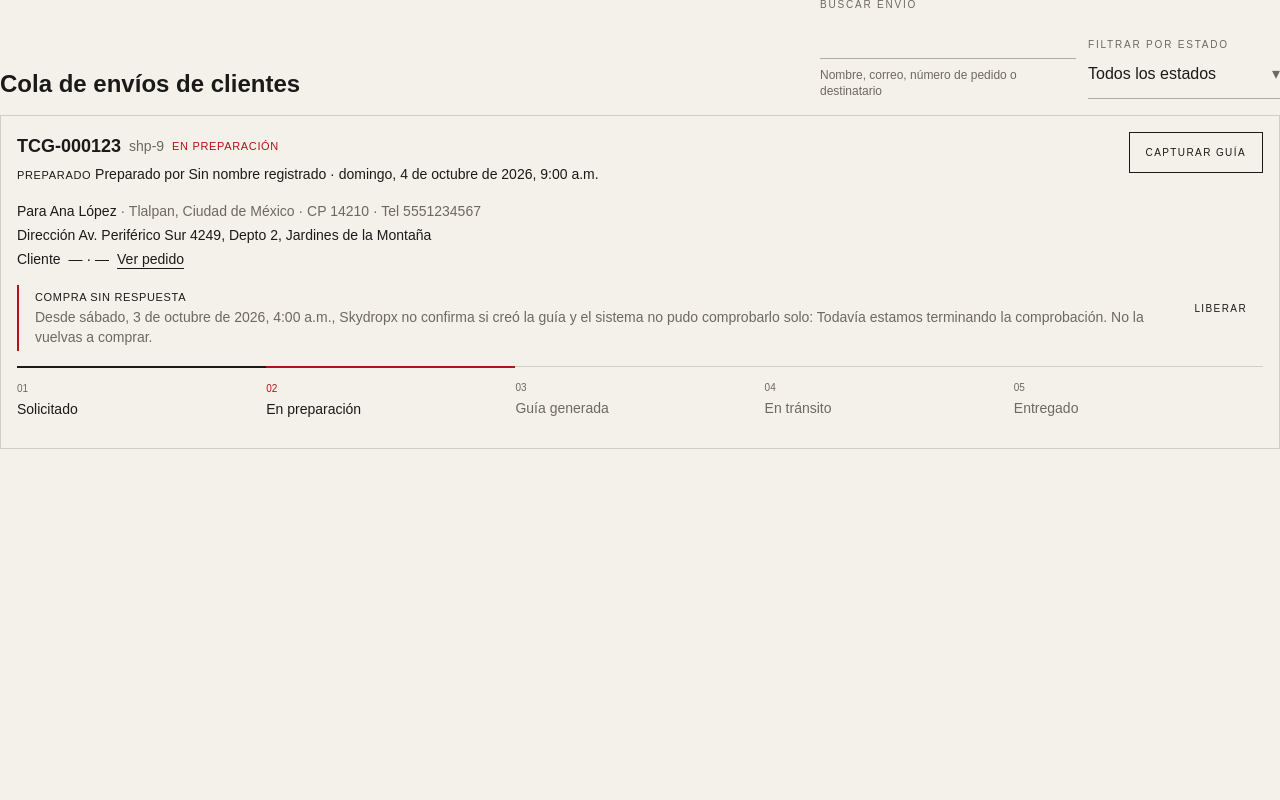
Test case: UX-SDX-16 · «Liberar» ⇔ canRelease (⛔ nunca por el rol) › operador con canRelease:true ⇒ «Liberar» presente; el diálogo manda la nota y pinta el resultado
Click the button "Liberar" at (1221, 309), box [1178,289,1263,329]
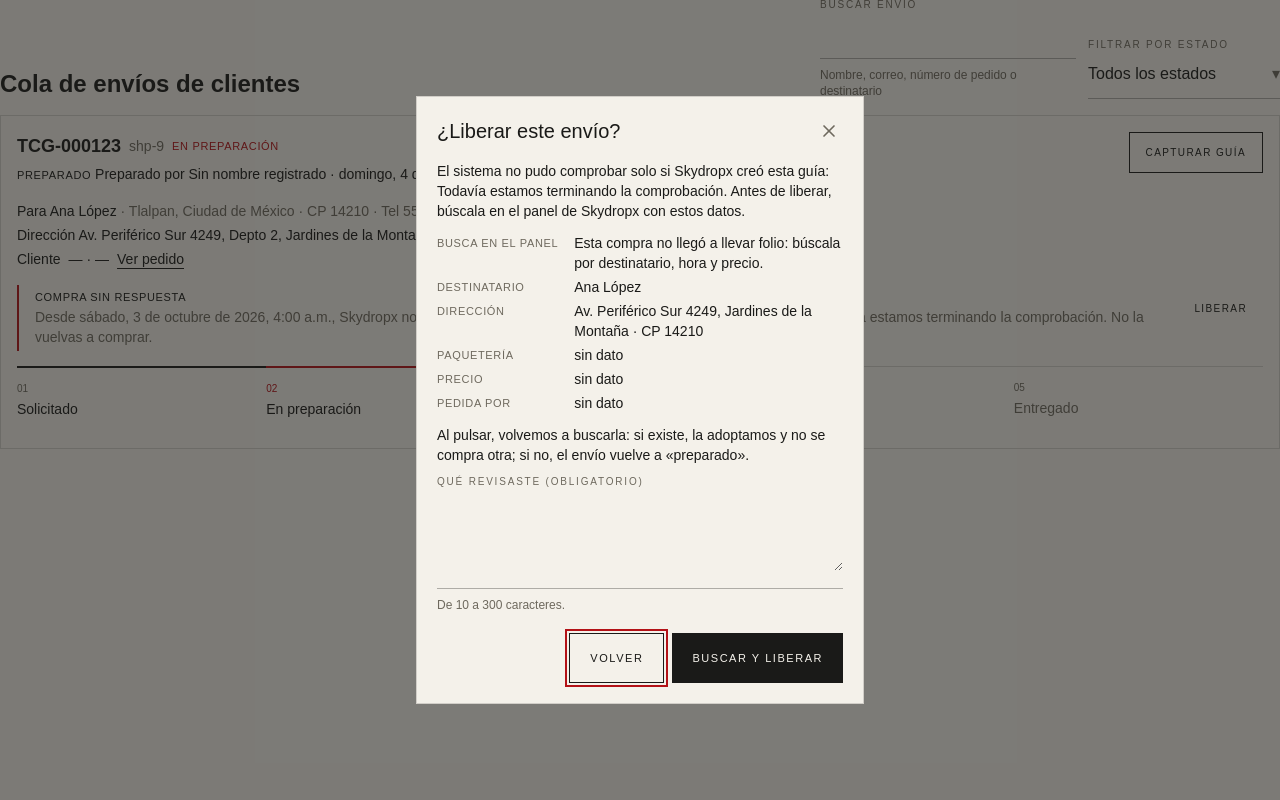
Type "Revisé el panel: no hay envío TCG-000123" into the text box labelled "Qué revisaste (obligatorio)" at (640, 535), box [437,499,843,571]
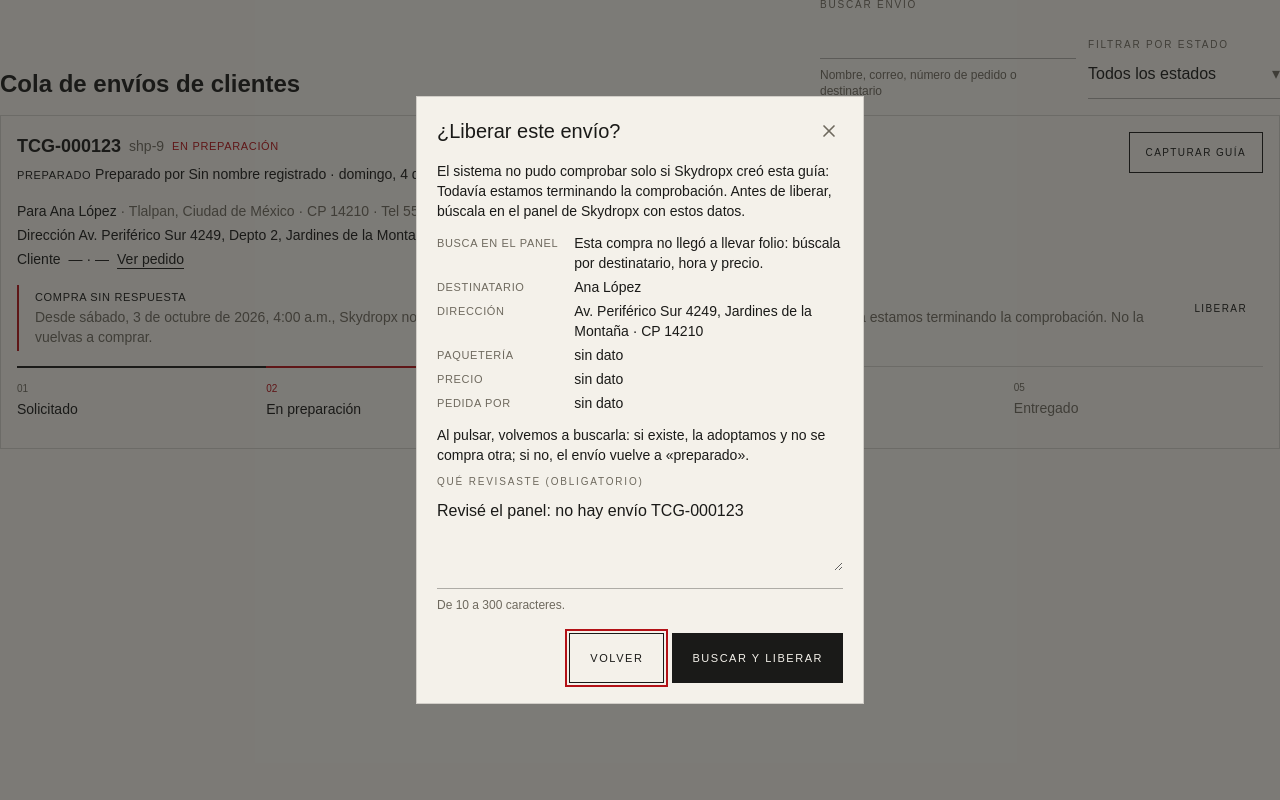
Click the button "Buscar y liberar" at (758, 658), box [672,633,843,683]
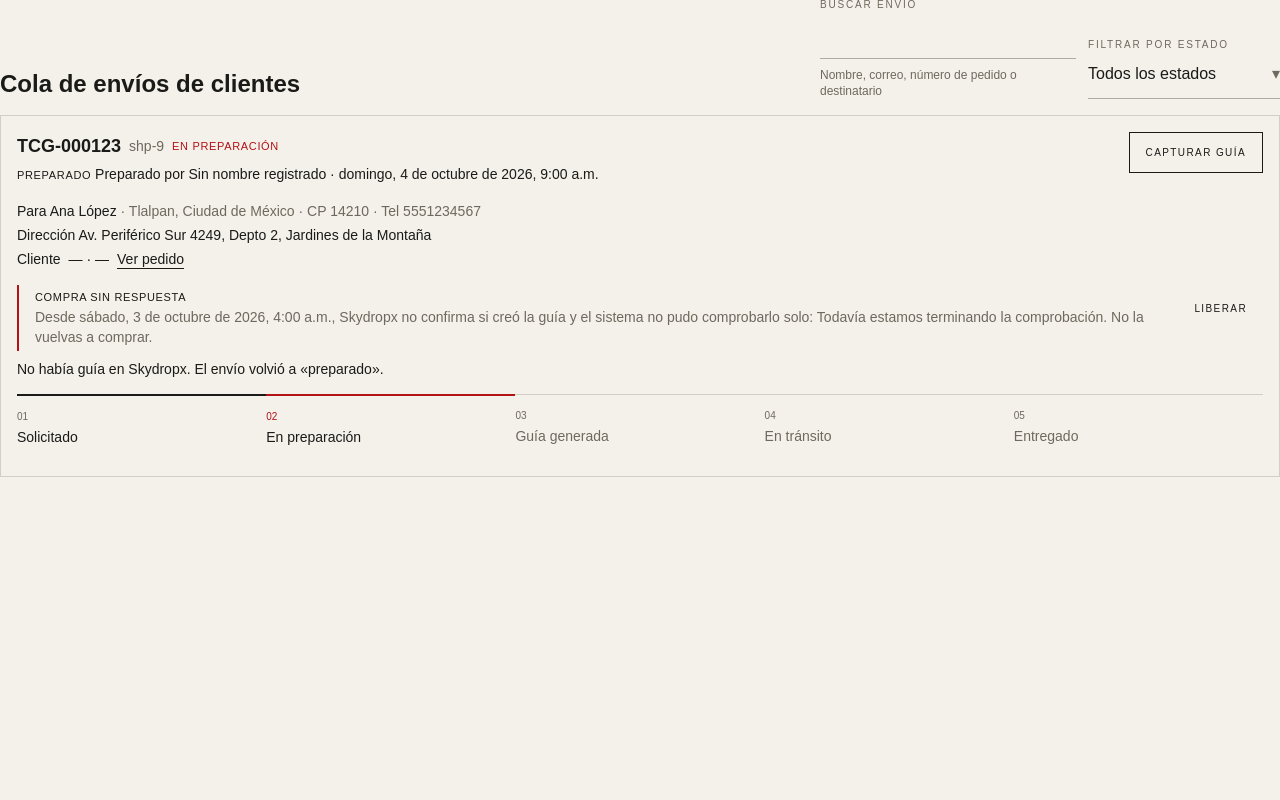
Expected: the text "No había guía en Skydropx. El envío volvió a «preparado»." is shown, [17,361,384,377]
